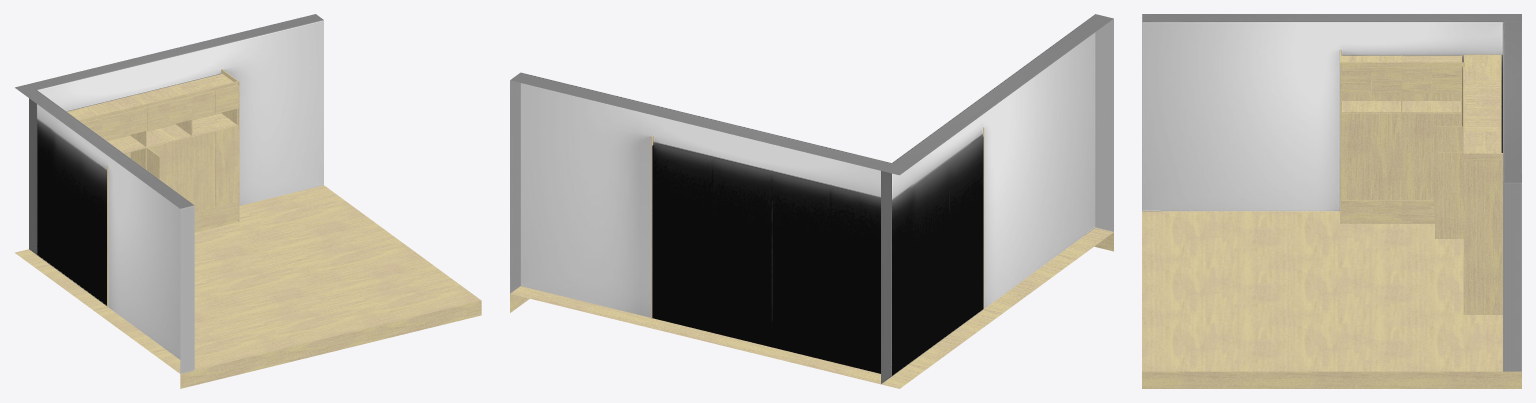
Rendered from dressing.glb.
3 renders of one model, left to right at view 1: azimuth 30°, elevation 25°; view 2: azimuth 150°, elevation 25°; view 3: azimuth 270°, elevation 25°, orthographic. The views are drawn at different scales.
Parts seen in each view (by area): view 1: floor, wall_left, wall_right, dominant, secondary; view 2: wall_right, wall_left, floor, dominant; view 3: floor, wall_left, dominant, wall_right, secondary, door2, tertiary, door1.
Boxes of the visible parts, x1,y1,x2,y2 form: floor: (15,185,481,388); wall_left: (15,84,194,373); wall_right: (29,14,323,205); dominant: (78,69,239,307); secondary: (67,73,237,169); wall_right: (510,72,891,373); wall_left: (881,14,1113,384); floor: (510,227,1113,388); dominant: (651,127,984,318); floor: (1142,211,1521,388); wall_left: (1142,14,1521,211); dominant: (1340,50,1502,314); wall_right: (1503,22,1521,371); secondary: (1341,55,1501,199); door2: (1435,152,1463,238); tertiary: (1342,54,1501,186); door1: (1434,126,1463,213).
Size of the model in its own units: 6.3 by 3.6 by 6.
6 materials, 6 textured.
